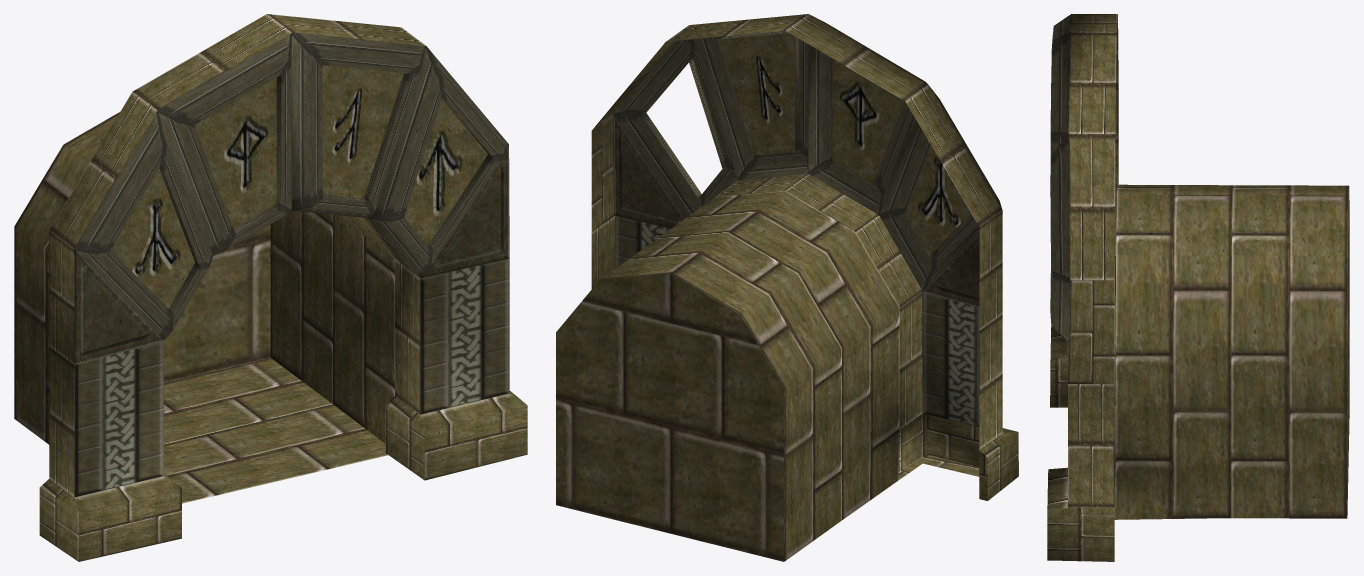
File: CH09_SMAUG_PLAYSURFACE_RUNEROOMS04.fbx
The picture shows the model from 3 angles, left to right: view 1: azimuth 30°, elevation 25°; view 2: azimuth 150°, elevation 25°; view 3: azimuth 270°, elevation 25°; orthographic projection. The views are drawn at different scales.
Visible parts, largest first — view 1: CH09_SMAUG_PLAYSURFACE_RUNEROOMS04; view 2: CH09_SMAUG_PLAYSURFACE_RUNEROOMS04; view 3: CH09_SMAUG_PLAYSURFACE_RUNEROOMS04.
Boxes of the visible parts, x1,y1,x2,y2 form: CH09_SMAUG_PLAYSURFACE_RUNEROOMS04: [14, 14, 527, 561]; CH09_SMAUG_PLAYSURFACE_RUNEROOMS04: [556, 14, 1018, 561]; CH09_SMAUG_PLAYSURFACE_RUNEROOMS04: [1047, 14, 1349, 561].
Size of the model in its own units: 29531 by 29272 by 18665.
Materials: 8 (8 with a texture image).
